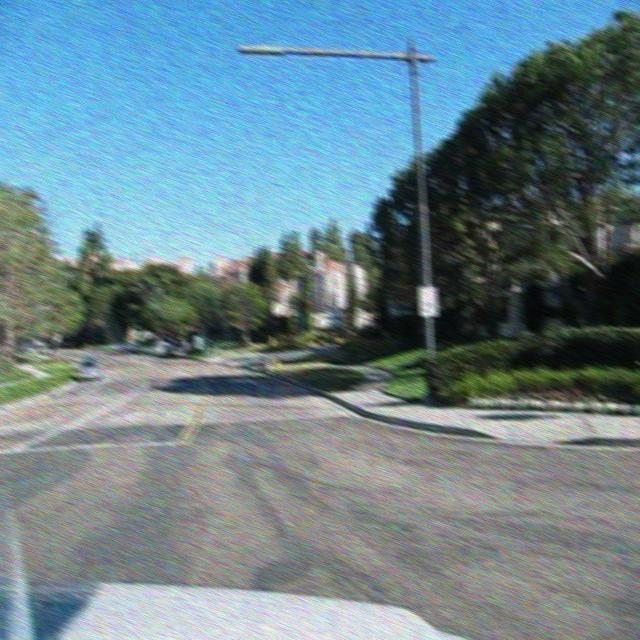speedLimit25: (417, 284, 439, 317)
